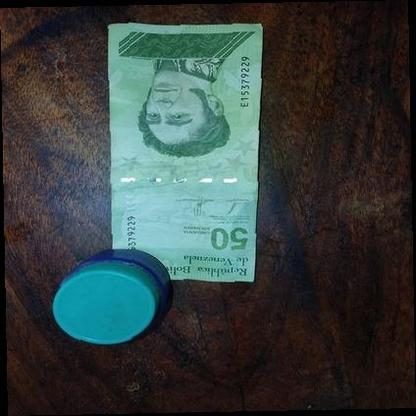fifty-front-vef: (106, 22, 262, 282)
